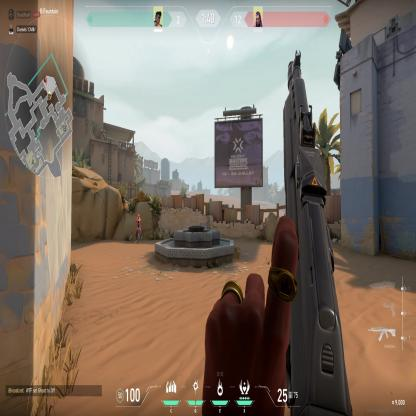enemy: (135, 211, 142, 244)
